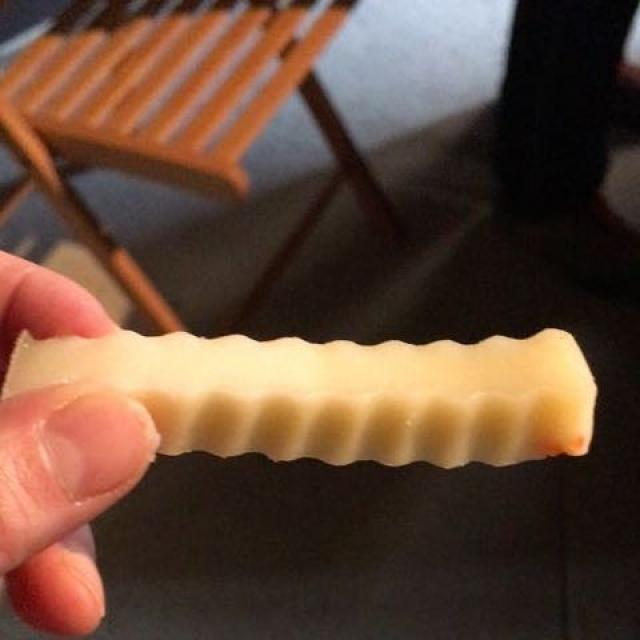cheese: (0, 322, 602, 461)
